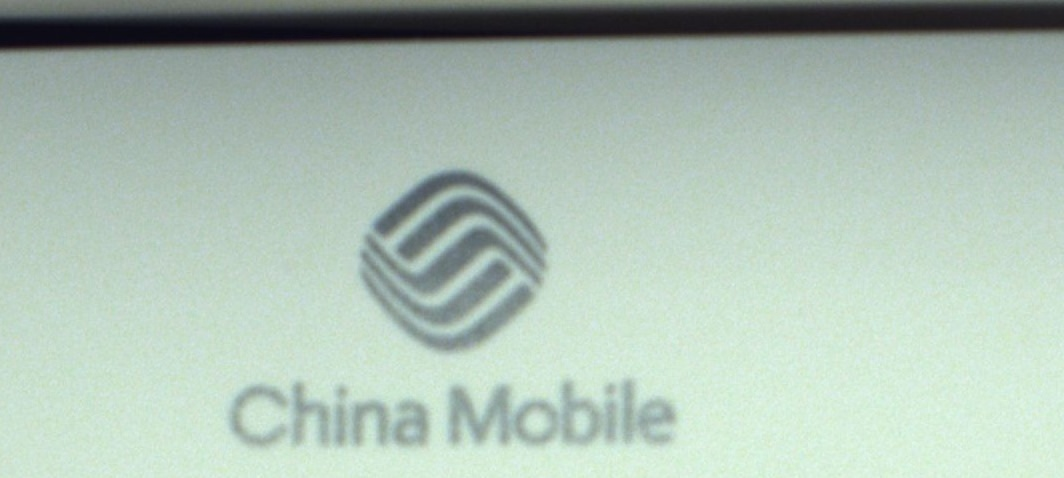AA_ChinaMobile: (225, 167, 674, 457)
